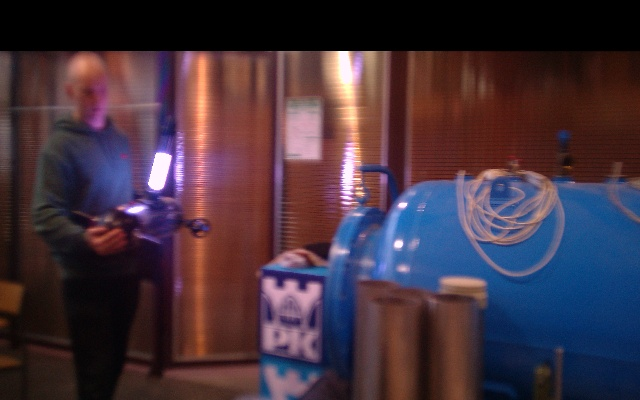white: (148, 152, 172, 190)
